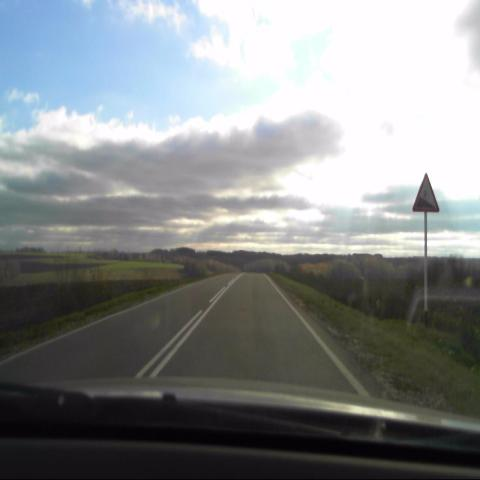1_13: (412, 167, 441, 215)
